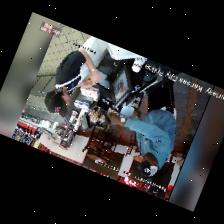person: (107, 79, 175, 175), (44, 36, 105, 115)
